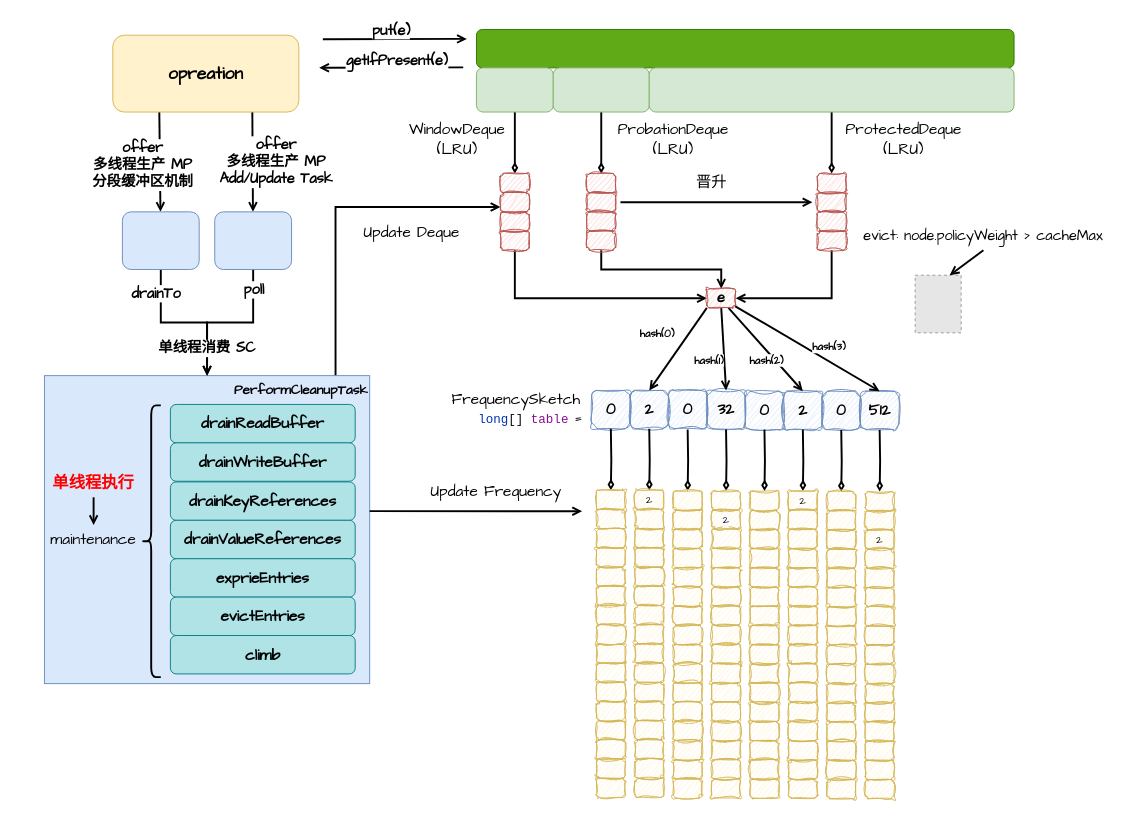
Some shapes in this 1127 by 820 pixel diagram are drawn without their labels. Grey dashed boxes stand in for pictures. Each missing label, with the centre of its shape:
"data(ConcurrentHashMap)" goes at [744,48].
"Probation 19%" goes at [600,89].
"Protected 80%" goes at [831,89].
"Read Buffer" goes at [160,240].
"Window 1%" goes at [514,89].
"Write Buffer" goes at [253,240].
